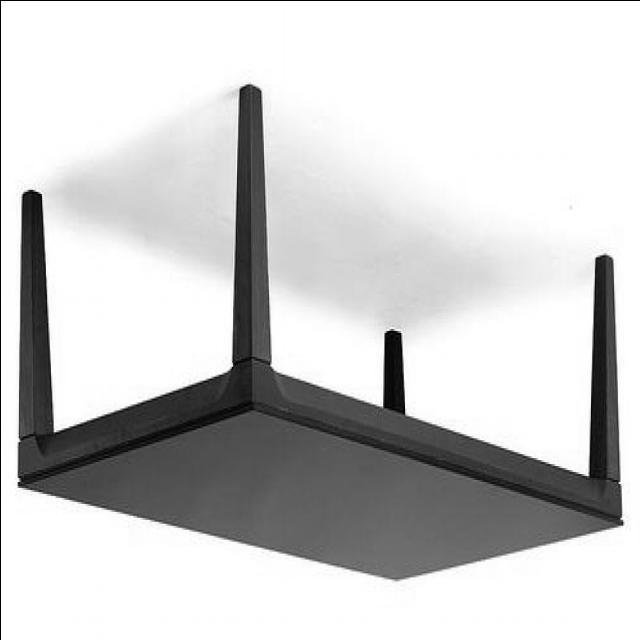table: (18, 87, 621, 582)
